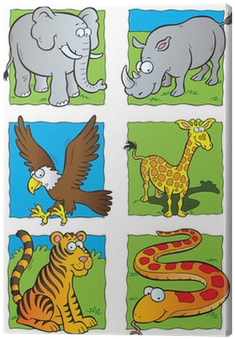Tigrew: (5, 227, 123, 335)
